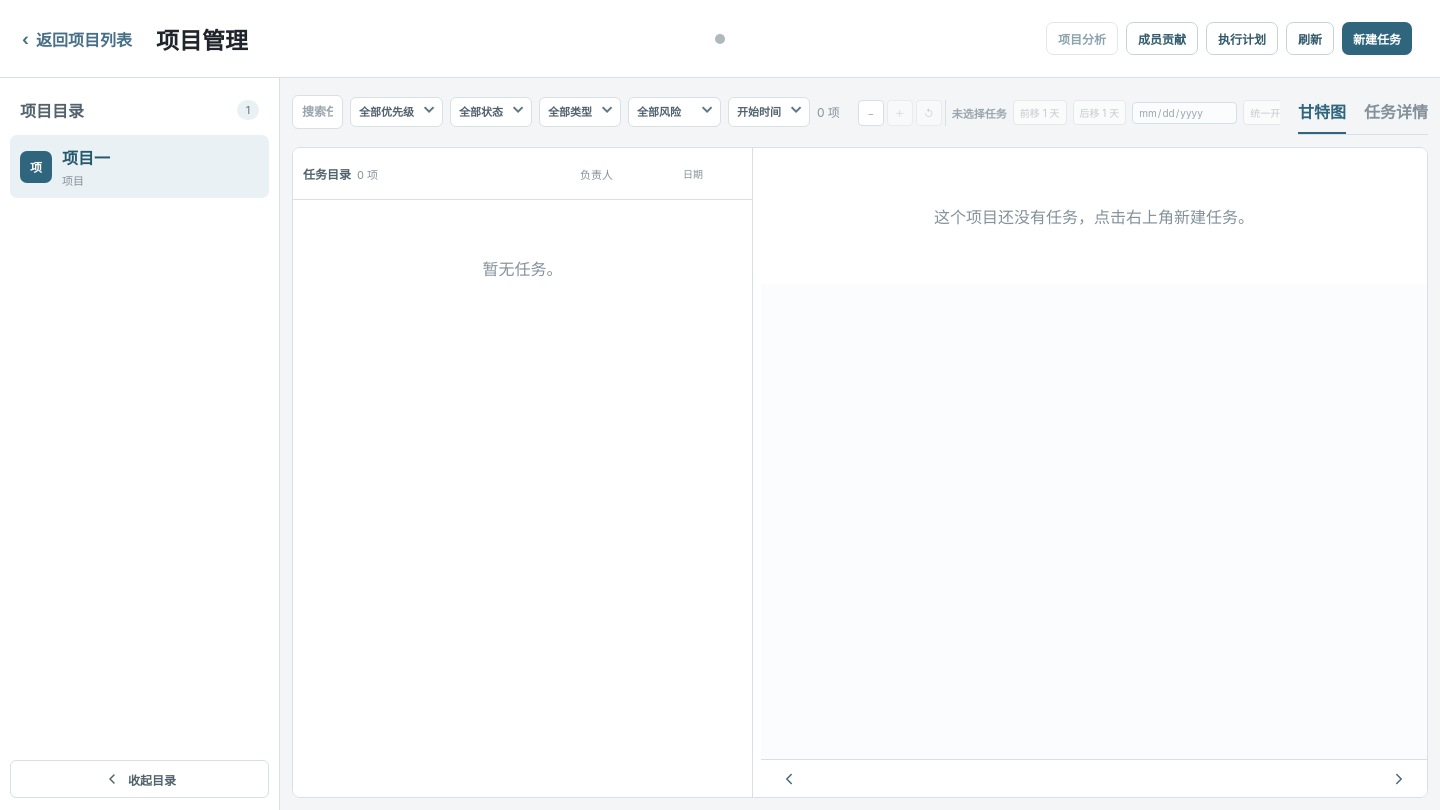
Test case: web app › opens member contribution statistics for the current project
Click the button "成员贡献" at x=1162, y=38, box [1126,22,1198,55]
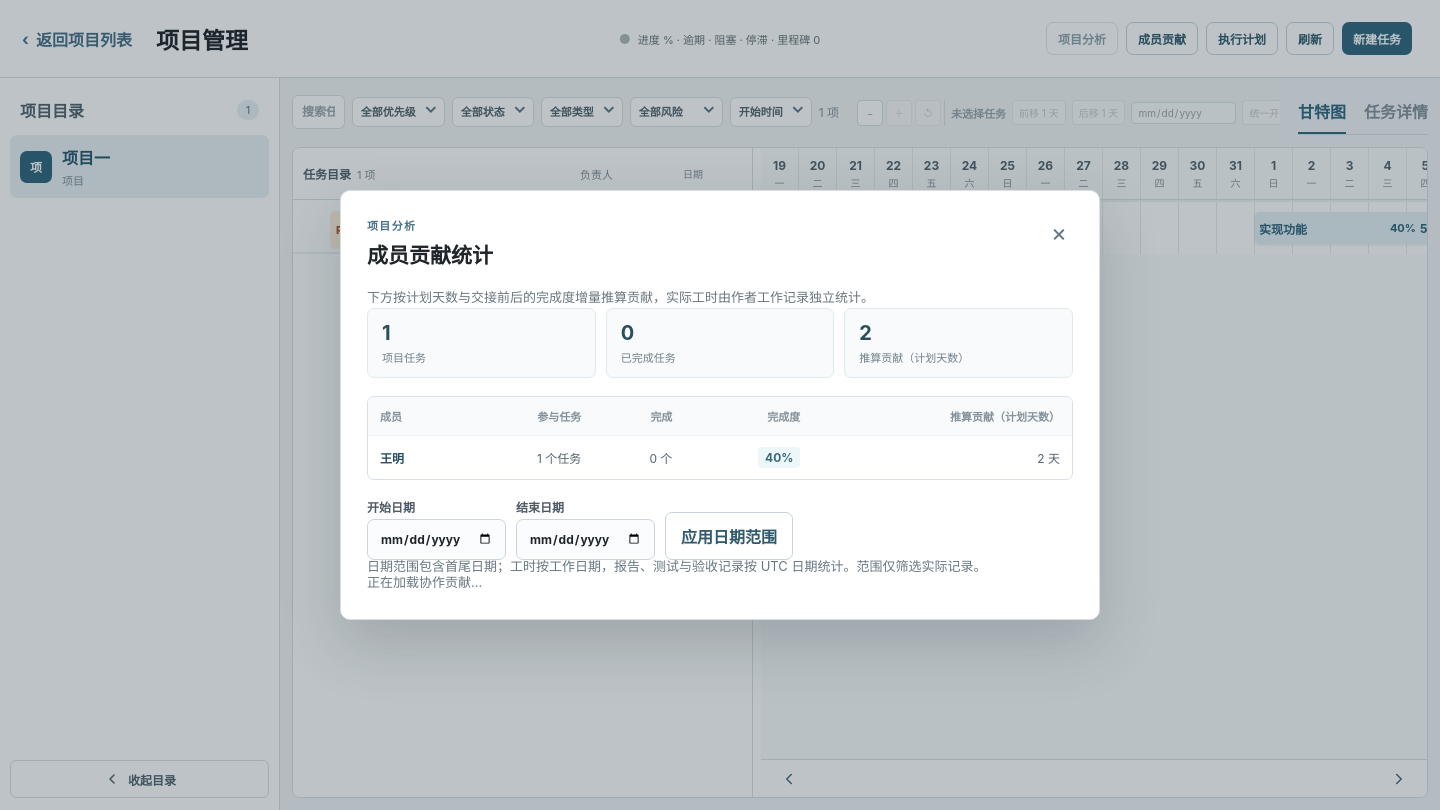
Result: the dialog "成员贡献统计" is shown at [340,190,1100,620]
Result: the text "王明" is shown at [380,451,404,466]
Result: the text "1 个任务" is shown at [461,435,593,479]
Click the button named "关闭" at x=1059, y=232, box [1045,217,1073,248]
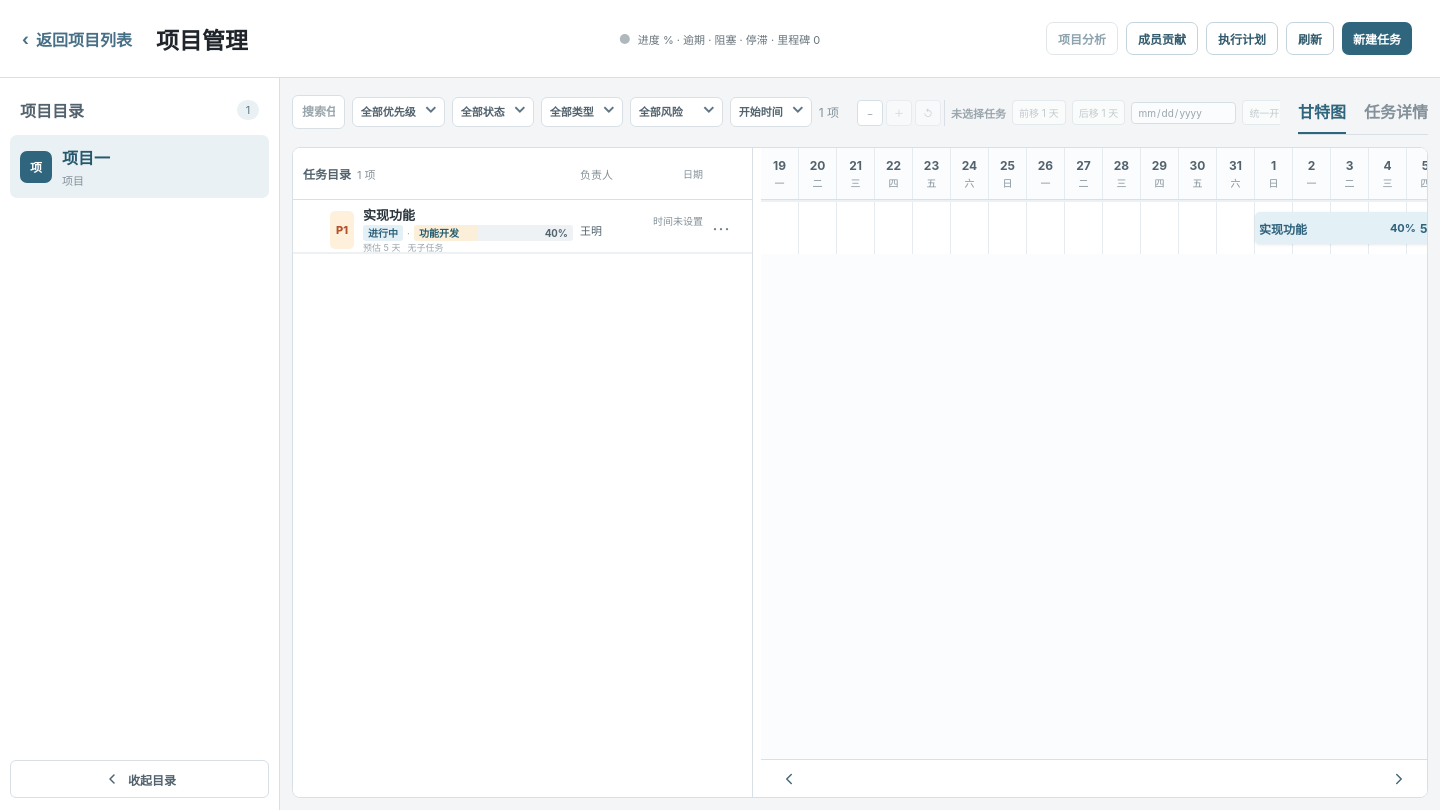
Result: the heading "成员贡献统计" is gone
